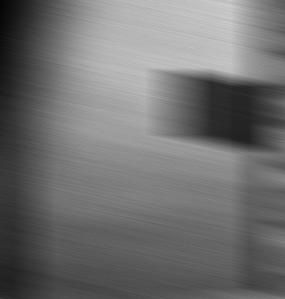Airbag: (1, 0, 285, 299), (273, 0, 285, 299), (0, 295, 285, 299), (273, 295, 285, 299)
